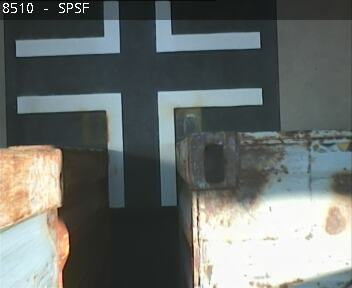groundmarker_1: (17, 86, 262, 208)
